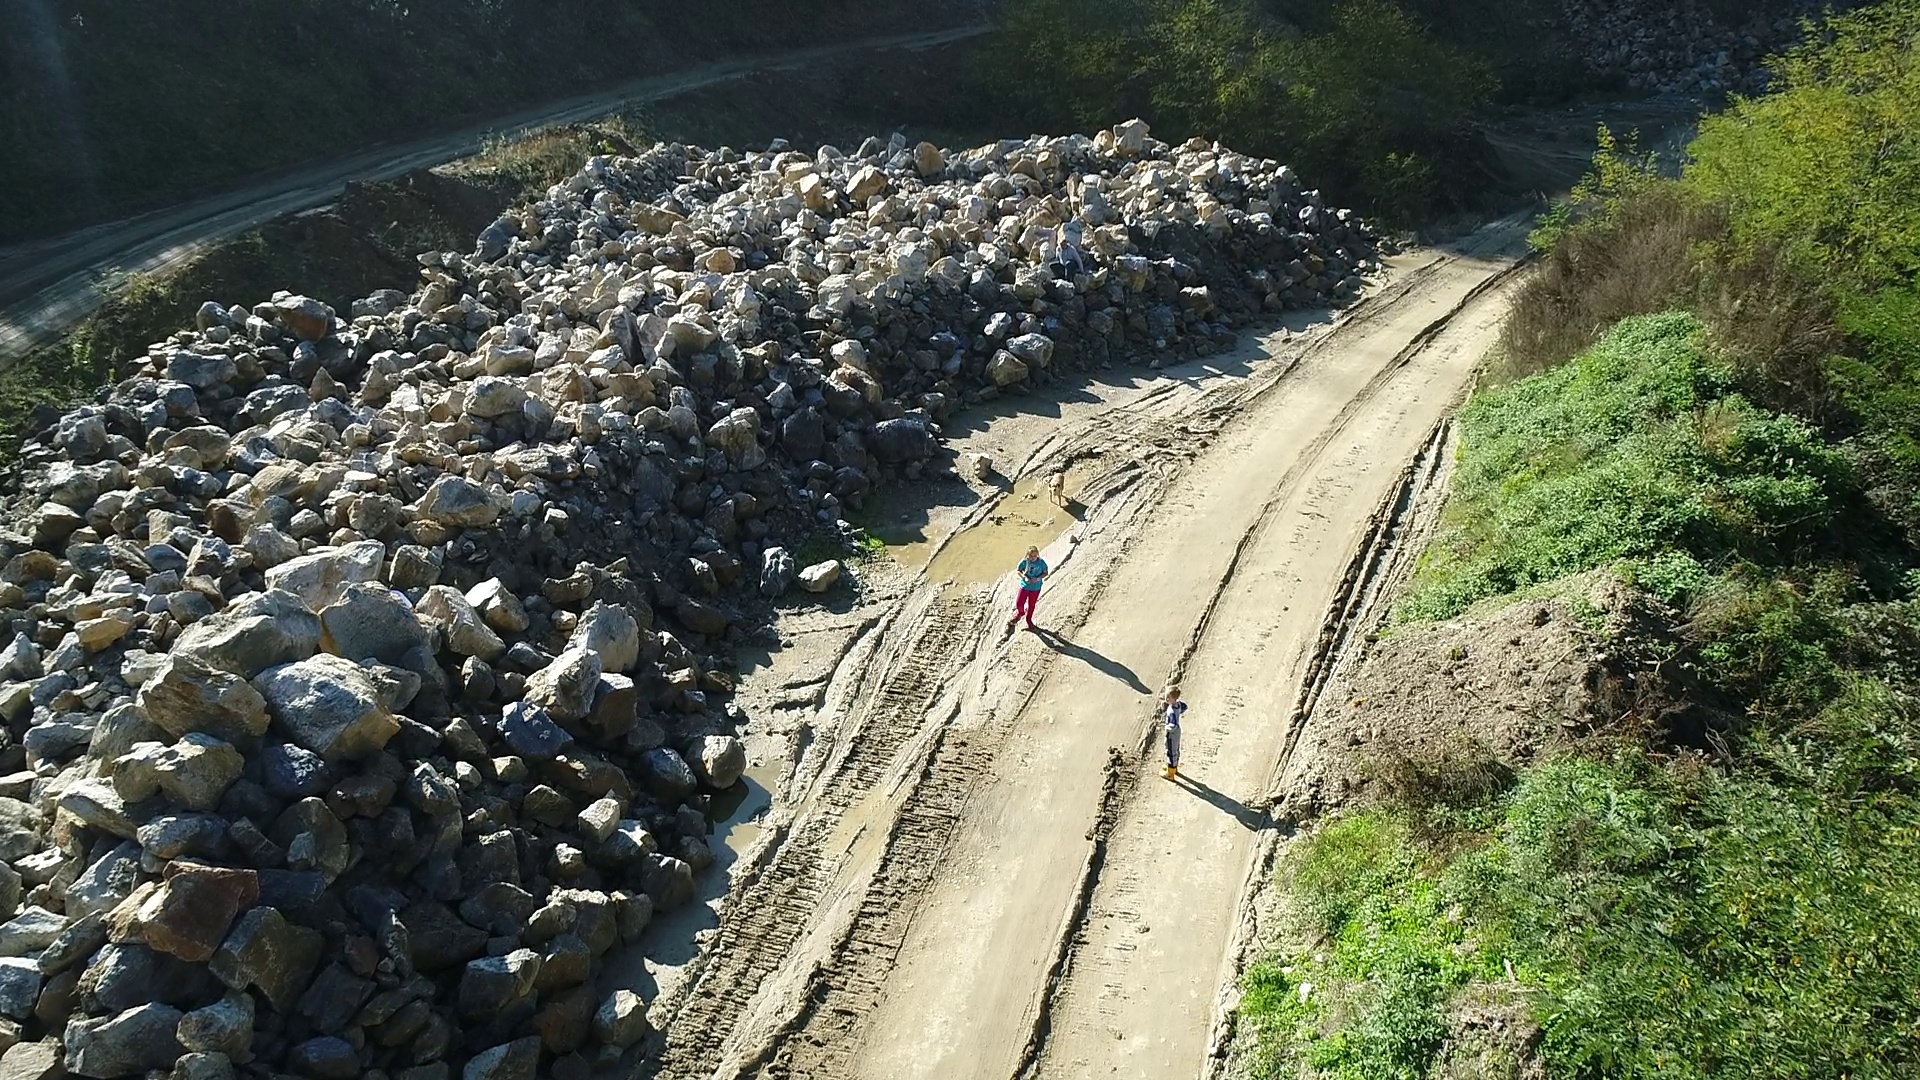person: (1006, 546, 1048, 630), (1158, 686, 1188, 782), (1049, 238, 1085, 283)
